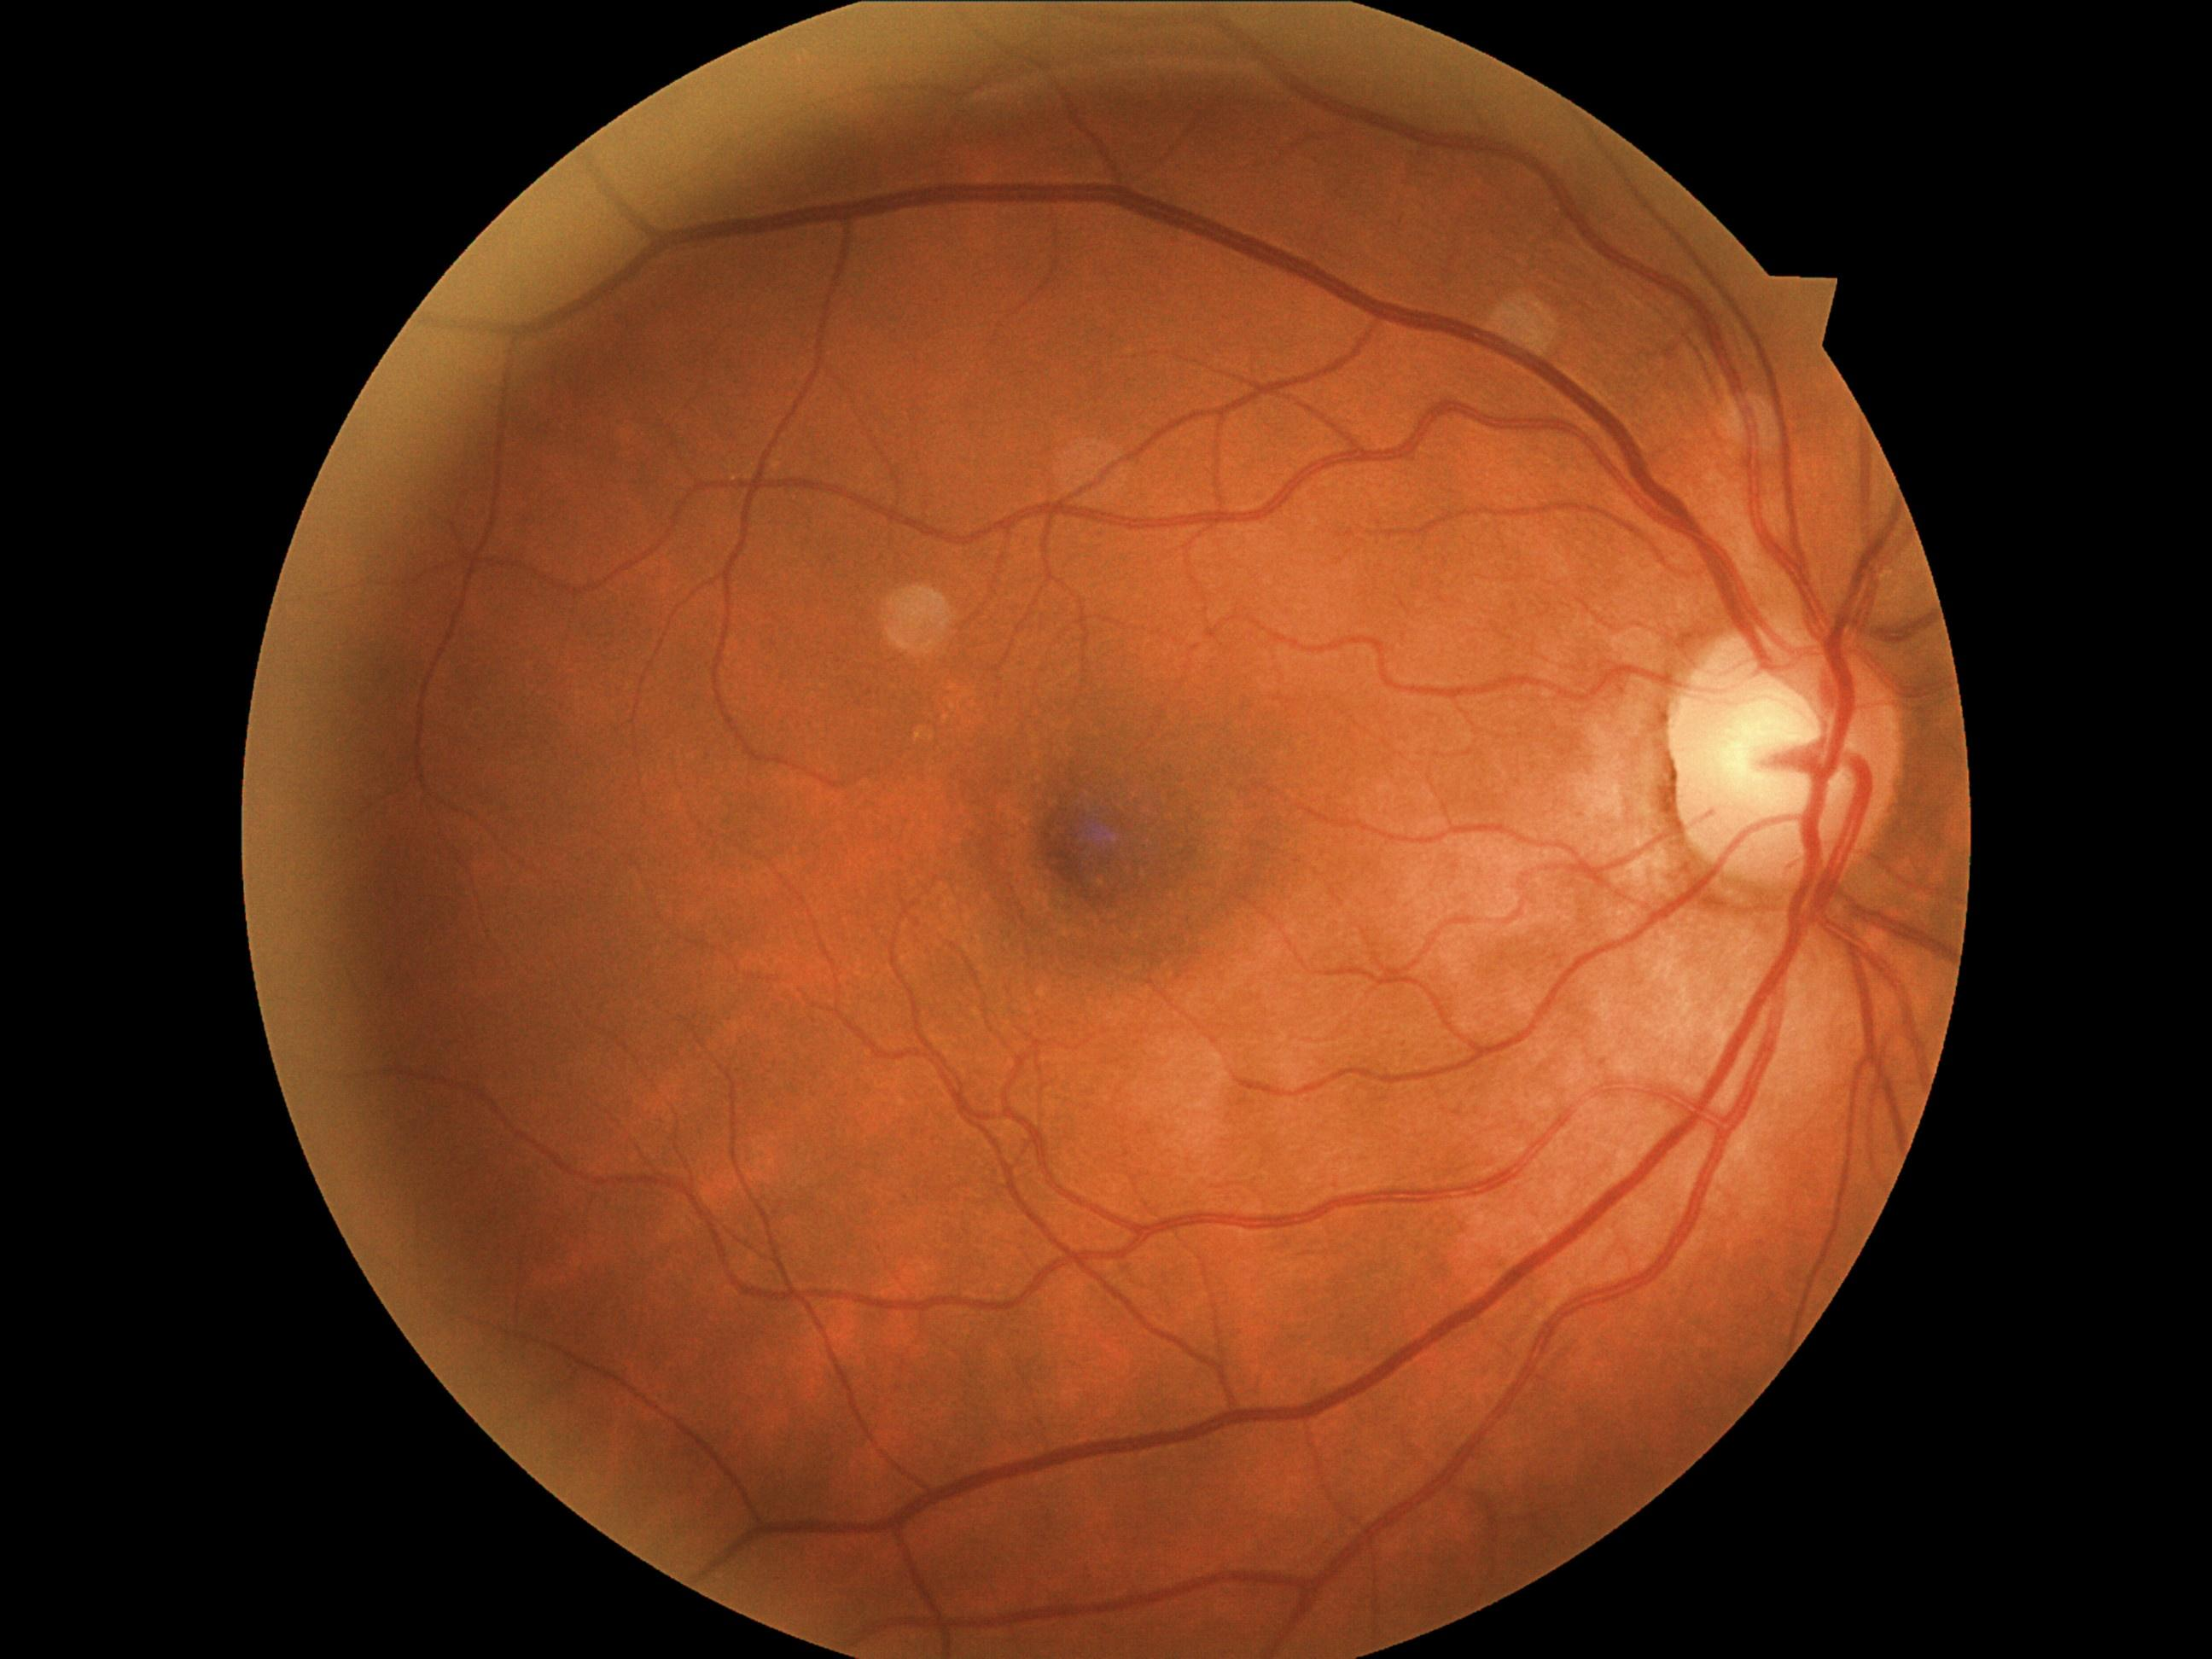Optic-nerve: (1660, 619, 1911, 889)
macula: (939, 692, 1282, 974)
notch: (1752, 261, 1864, 352)
